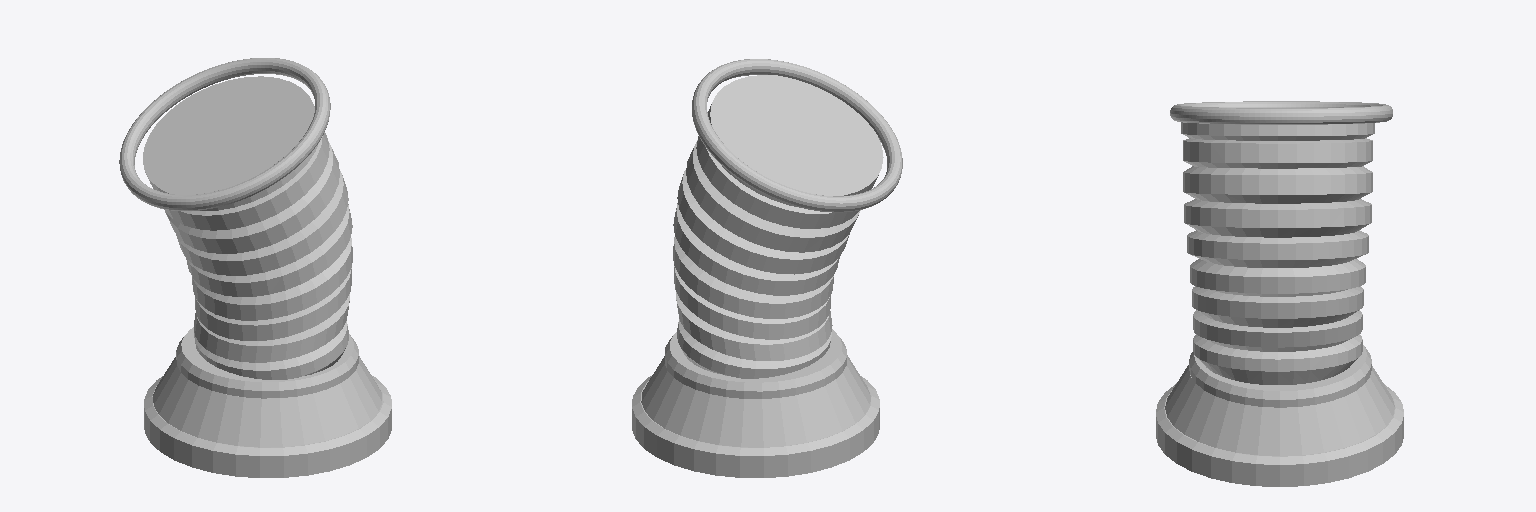
The model's file is ejerciciogoddardPataTraesera.obj.
The picture shows the model from 3 angles: view 1: azimuth 30°, elevation 25°; view 2: azimuth 150°, elevation 25°; view 3: azimuth 270°, elevation 25°; orthographic projection.
Parts seen in each view (by area): view 1: C_rculo_007_C_rculo_008, C_rculo_015_C_rculo_016, C_rculo_014_C_rculo_015, C_rculo_004, C_rculo_016_C_rculo_017; view 2: C_rculo_007_C_rculo_008, C_rculo_015_C_rculo_016, C_rculo_014_C_rculo_015, C_rculo_004, C_rculo_016_C_rculo_017; view 3: C_rculo_007_C_rculo_008, C_rculo_015_C_rculo_016, C_rculo_014_C_rculo_015, C_rculo_004, C_rculo_016_C_rculo_017.
Boxes of the visible parts, x1=… form: C_rculo_007_C_rculo_008: x1=143, y1=76, x2=352, y2=379; C_rculo_015_C_rculo_016: x1=153, y1=356, x2=381, y2=447; C_rculo_014_C_rculo_015: x1=144, y1=376, x2=391, y2=477; C_rculo_004: x1=119, y1=58, x2=330, y2=210; C_rculo_016_C_rculo_017: x1=176, y1=327, x2=358, y2=398; C_rculo_007_C_rculo_008: x1=673, y1=75, x2=883, y2=378; C_rculo_015_C_rculo_016: x1=641, y1=355, x2=870, y2=447; C_rculo_014_C_rculo_015: x1=632, y1=376, x2=879, y2=477; C_rculo_004: x1=692, y1=59, x2=902, y2=212; C_rculo_016_C_rculo_017: x1=665, y1=329, x2=846, y2=398; C_rculo_007_C_rculo_008: x1=1181, y1=122, x2=1374, y2=384; C_rculo_015_C_rculo_016: x1=1165, y1=365, x2=1394, y2=455; C_rculo_014_C_rculo_015: x1=1156, y1=383, x2=1403, y2=486; C_rculo_004: x1=1170, y1=101, x2=1392, y2=124; C_rculo_016_C_rculo_017: x1=1189, y1=345, x2=1371, y2=407.
Size of the model in its own units: 1.14 by 1.58 by 1.03.